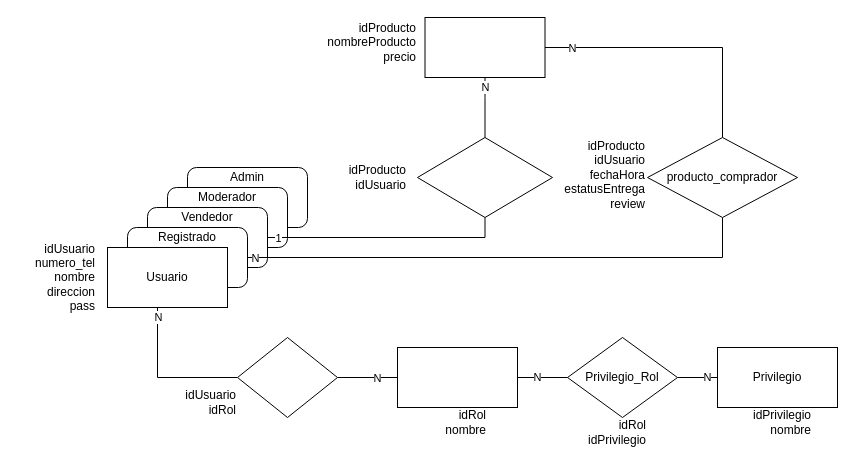
The diagram is 855 pixels wide and 465 high, and some of its shapes have lost their labels. The box of each missing label's shape, as (x1, y1, x2, y2) in pixels:
Producto: (424, 16, 545, 78)
Rol: (396, 346, 518, 408)
Usuario_Rol: (236, 336, 338, 418)
vendedor_producto: (416, 136, 552, 218)
